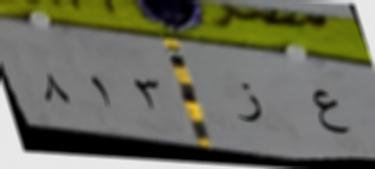1: (86, 65, 119, 111)
3: (130, 71, 164, 114)
8: (35, 73, 74, 108)
ain: (294, 83, 356, 136)
zay: (230, 75, 266, 128)
